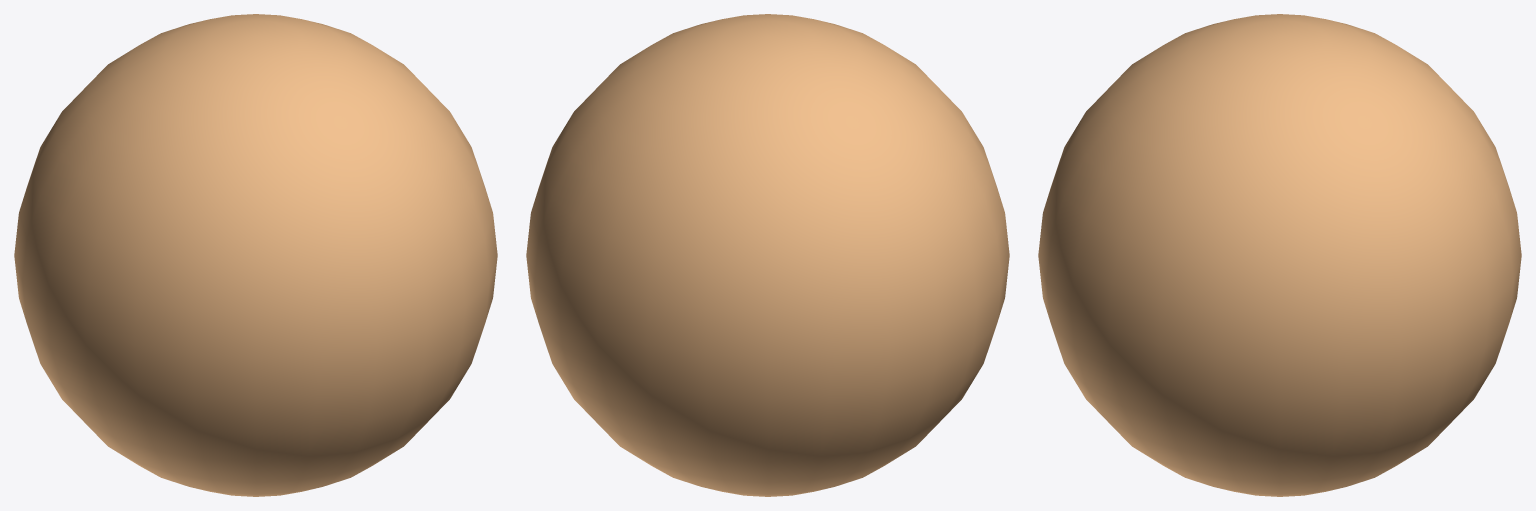
File: ShadowDepthClipDemo.gltf
3 renders of one model, left to right at view 1: azimuth 30°, elevation 25°; view 2: azimuth 150°, elevation 25°; view 3: azimuth 270°, elevation 25°, orthographic.
Parts seen in each view (by area): view 1: DepthClip_Caster; view 2: DepthClip_Caster; view 3: DepthClip_Caster.
Part boxes in pixels (x1,y1,x2,y2): DepthClip_Caster: [14, 14, 497, 496]; DepthClip_Caster: [526, 14, 1009, 496]; DepthClip_Caster: [1038, 14, 1521, 496].
Size of what is drawn, in the model's own units: 4 by 4 by 4.
